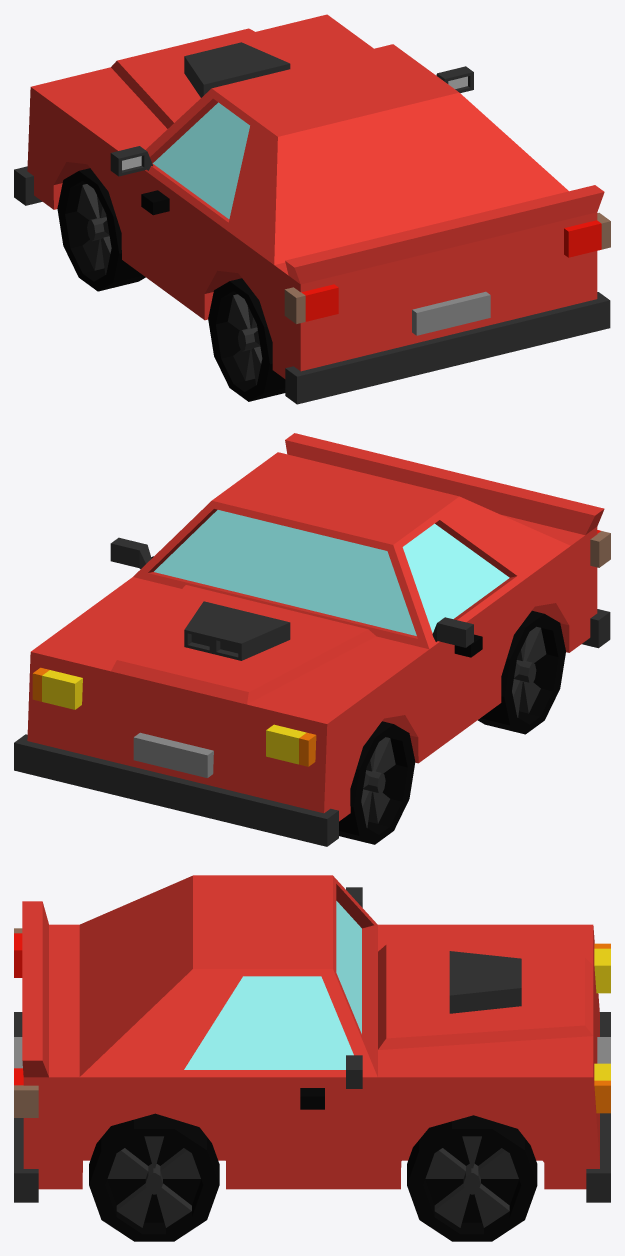
File: ObsticleCar_6.fbx
The picture shows the model from 3 angles, top to bottom: view 1: azimuth 30°, elevation 25°; view 2: azimuth 150°, elevation 25°; view 3: azimuth 270°, elevation 25°; orthographic projection. The views are drawn at different scales.
Parts seen in each view (by area): view 1: Cube; view 2: Cube; view 3: Cube.
Part boxes in pixels (box(x1,y1,x2,y2)): Cube: box(14, 14, 610, 404); Cube: box(14, 433, 610, 846); Cube: box(14, 875, 610, 1241).
Size of the model in its own units: 299 by 186 by 413.
Materials: 1 (1 with a texture image).
